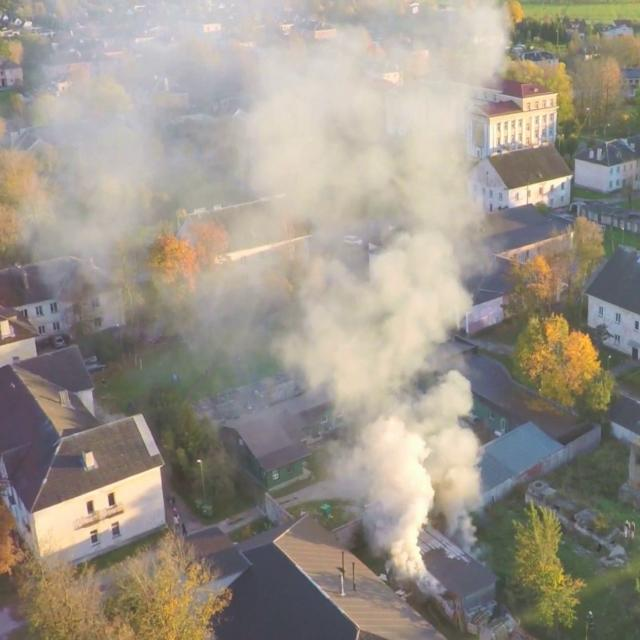Smoke: (0, 0, 481, 566)
